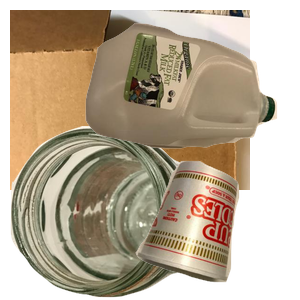cardboard: (10, 10, 250, 190)
glass: (10, 126, 220, 300)
plastic: (83, 21, 300, 162)
trash: (133, 158, 300, 300)
